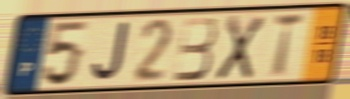2: (133, 16, 174, 84)
5: (41, 19, 93, 88)
B: (171, 15, 219, 84)
J: (89, 20, 131, 84)
T: (271, 11, 308, 80)
X: (213, 13, 267, 82)
